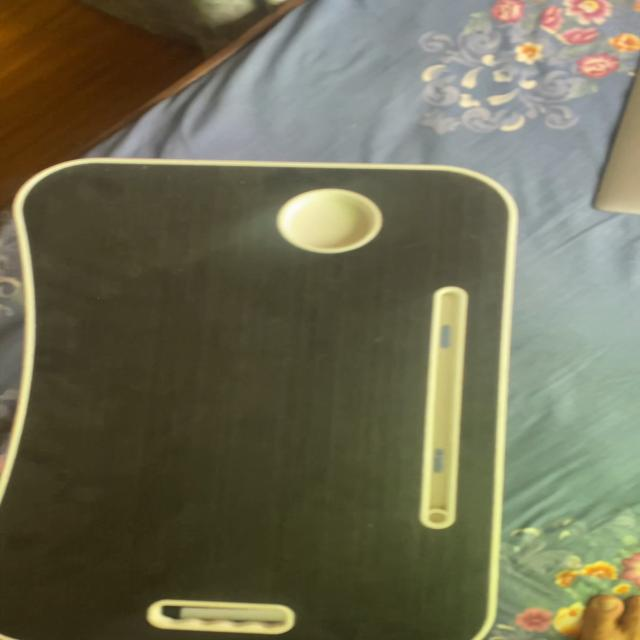table: (11, 149, 575, 640)
